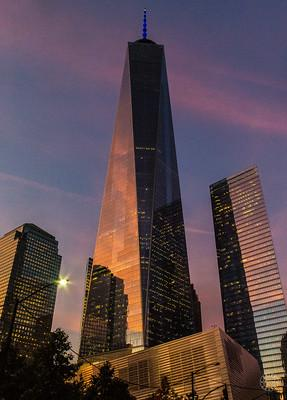building: (74, 32, 204, 376), (207, 160, 283, 399)
